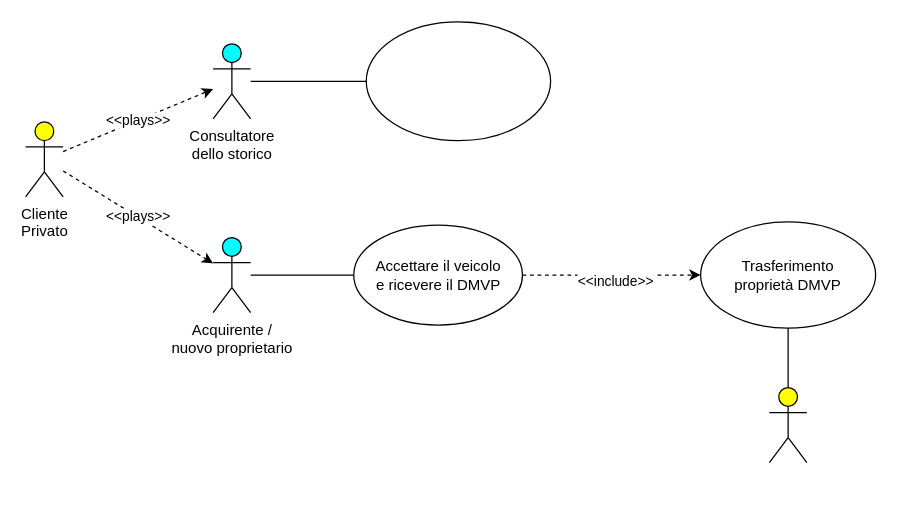
The diagram is 898 pixels wide and 510 high, and some of its shapes have lost their labels. The shapes that lost their labels are listed below. From the top down, each one's centre as x and y in pixels, then its label:
At point (458, 81): "Consultare lo storico immutabile del veicolo".
At point (787, 424): "Intermediario".
